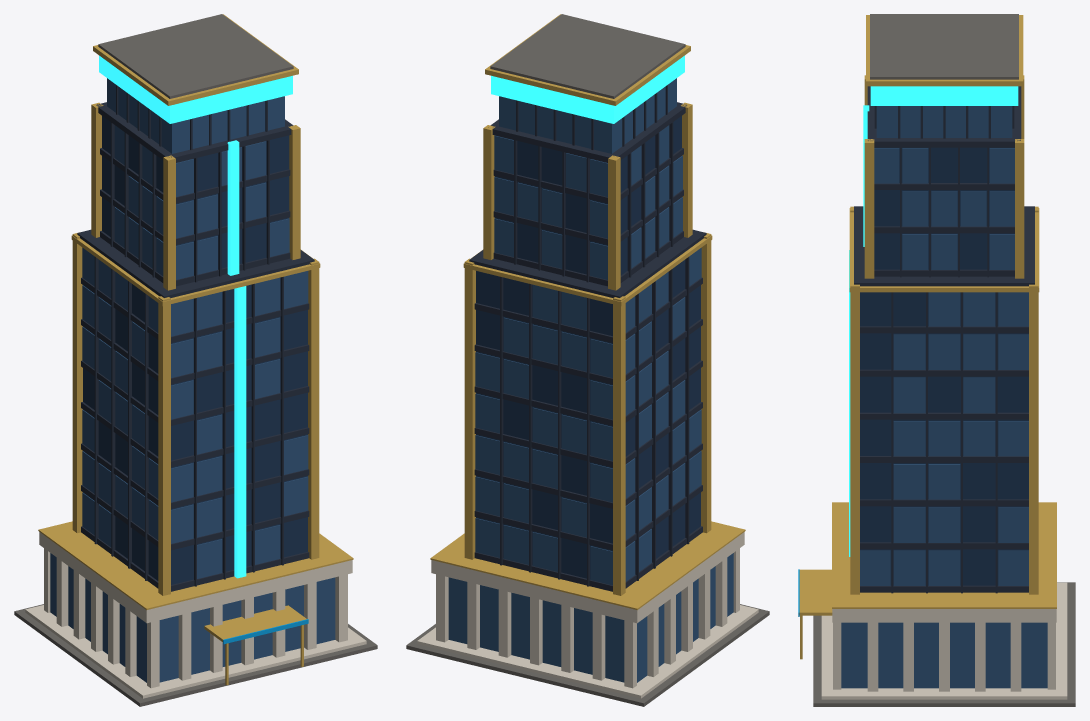
File: hq-traveldoor.glb
3 views of the same model, side by side, from view 1: azimuth 30°, elevation 25°; view 2: azimuth 150°, elevation 25°; view 3: azimuth 270°, elevation 25° (orthographic). The views are drawn at different scales.
Parts seen in each view (by area): view 1: hq-traveldoor; view 2: hq-traveldoor; view 3: hq-traveldoor.
Part boxes in pixels (x1,y1,x2,y2): hq-traveldoor: [14, 14, 377, 706]; hq-traveldoor: [406, 14, 769, 706]; hq-traveldoor: [798, 14, 1075, 706].
Size of the model in its own units: 24 by 55.64 by 23.26.
